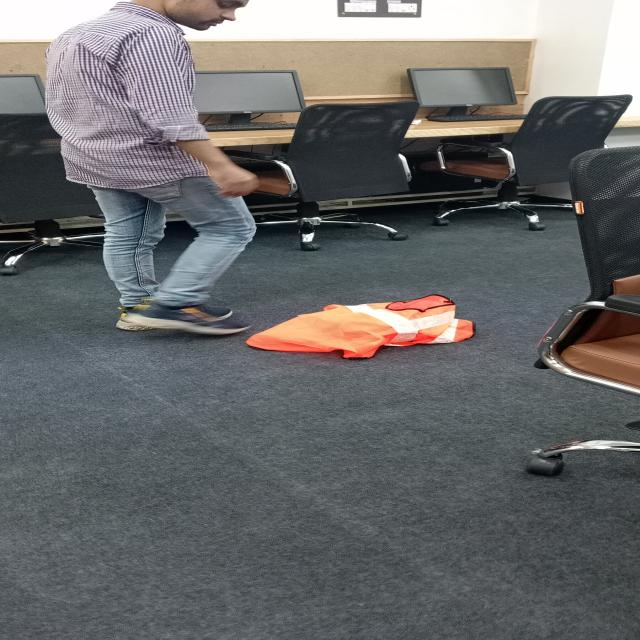unsafe: (47, 0, 271, 338)
